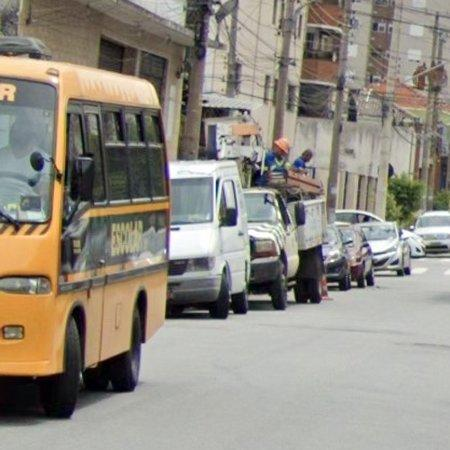buses: (0, 56, 170, 418)
